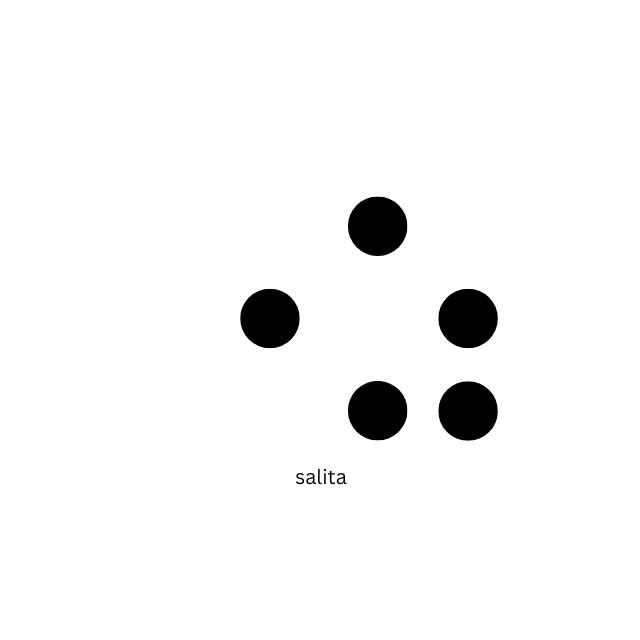dot_5: (148, 192, 302, 440)
two_cell_alphabet_salita: (346, 195, 500, 442)
